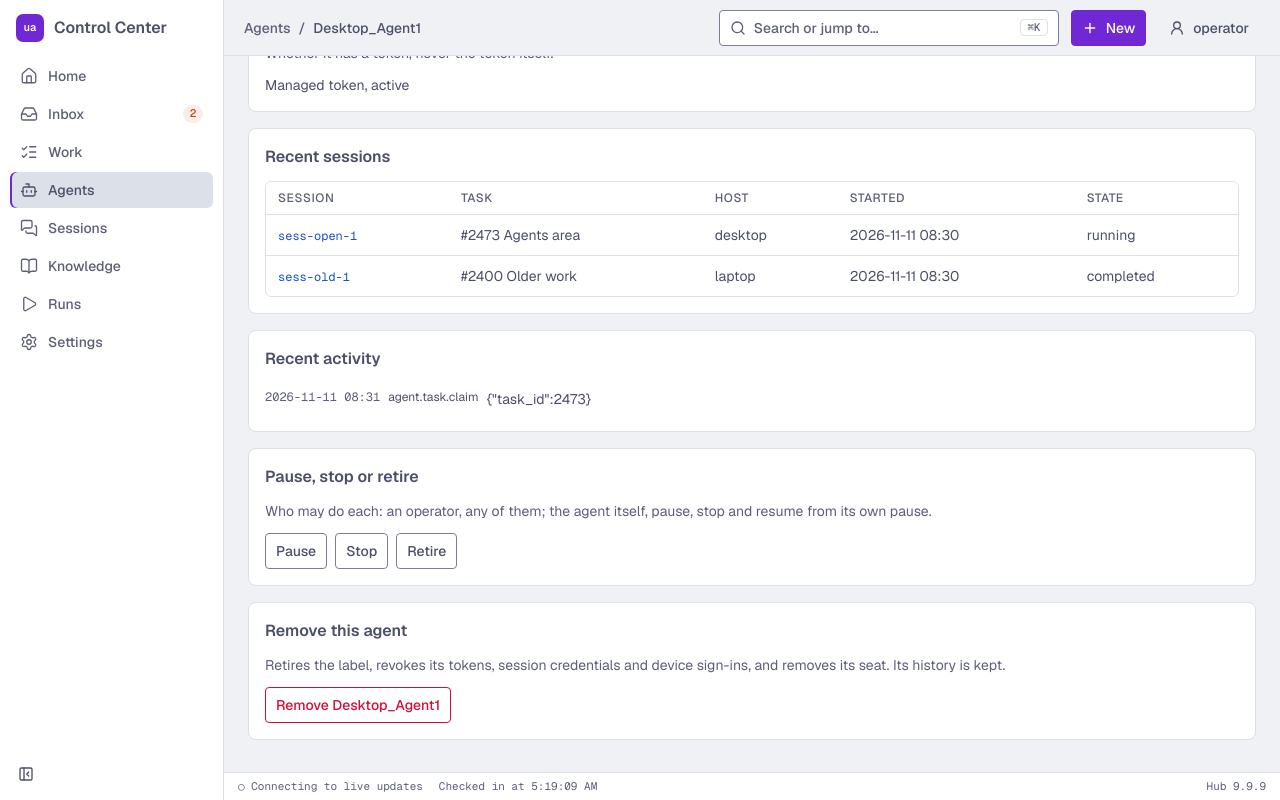
Test case: agents: the agent page › a 403 answer to the remove is explained
(page scrolled)
Click the button "Remove Desktop_Agent1". click: {"x": 358, "y": 705}
box: [265,687,451,723]
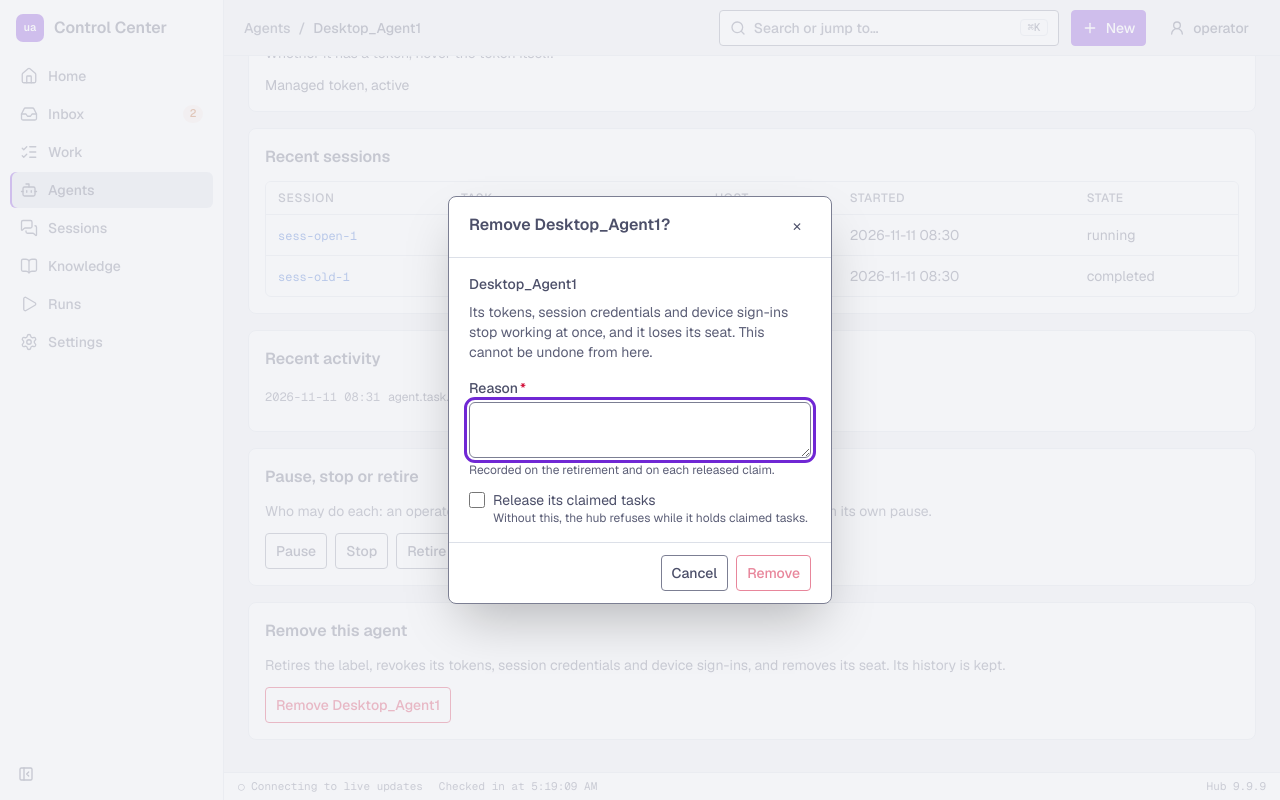
Type "x" into the text box labelled "Reason*". click: {"x": 640, "y": 430}
box: [469,402,811,458]
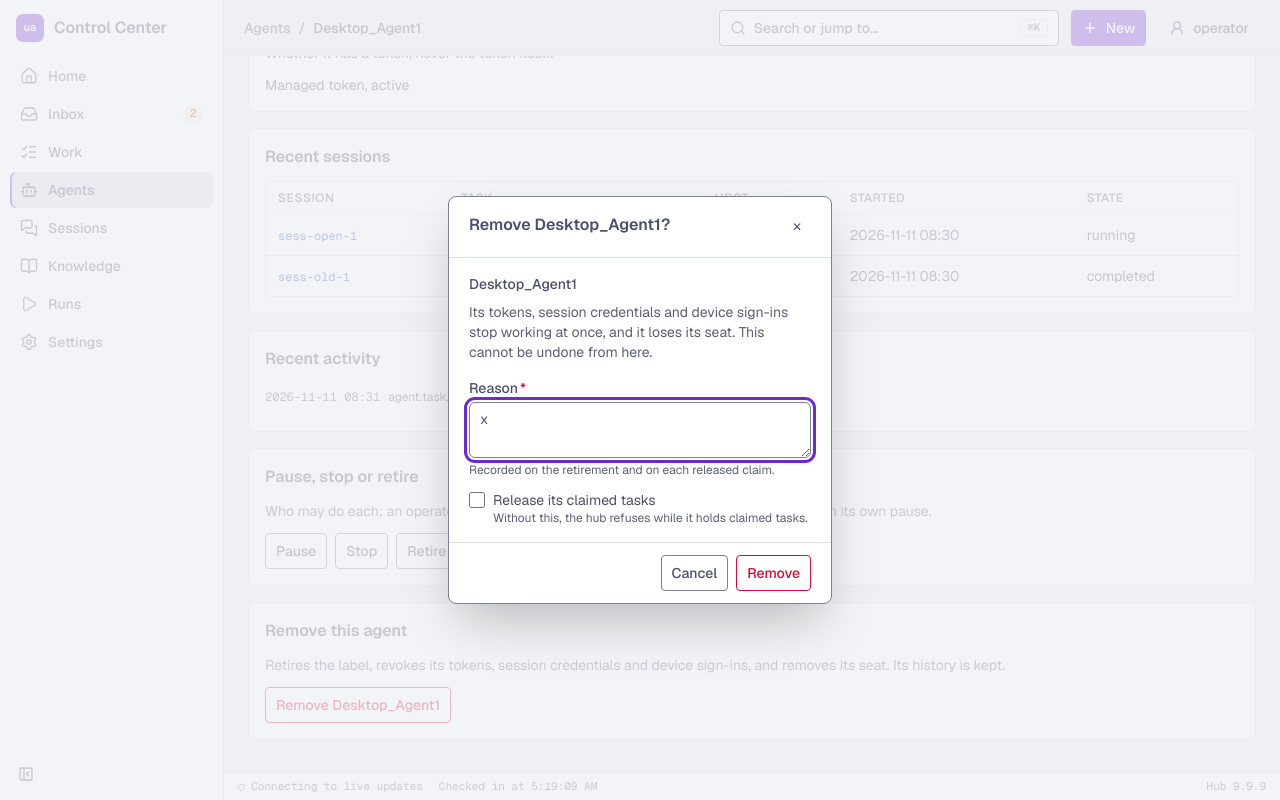
Click the button "Remove". click: {"x": 774, "y": 573}
box: [736,555,811,591]
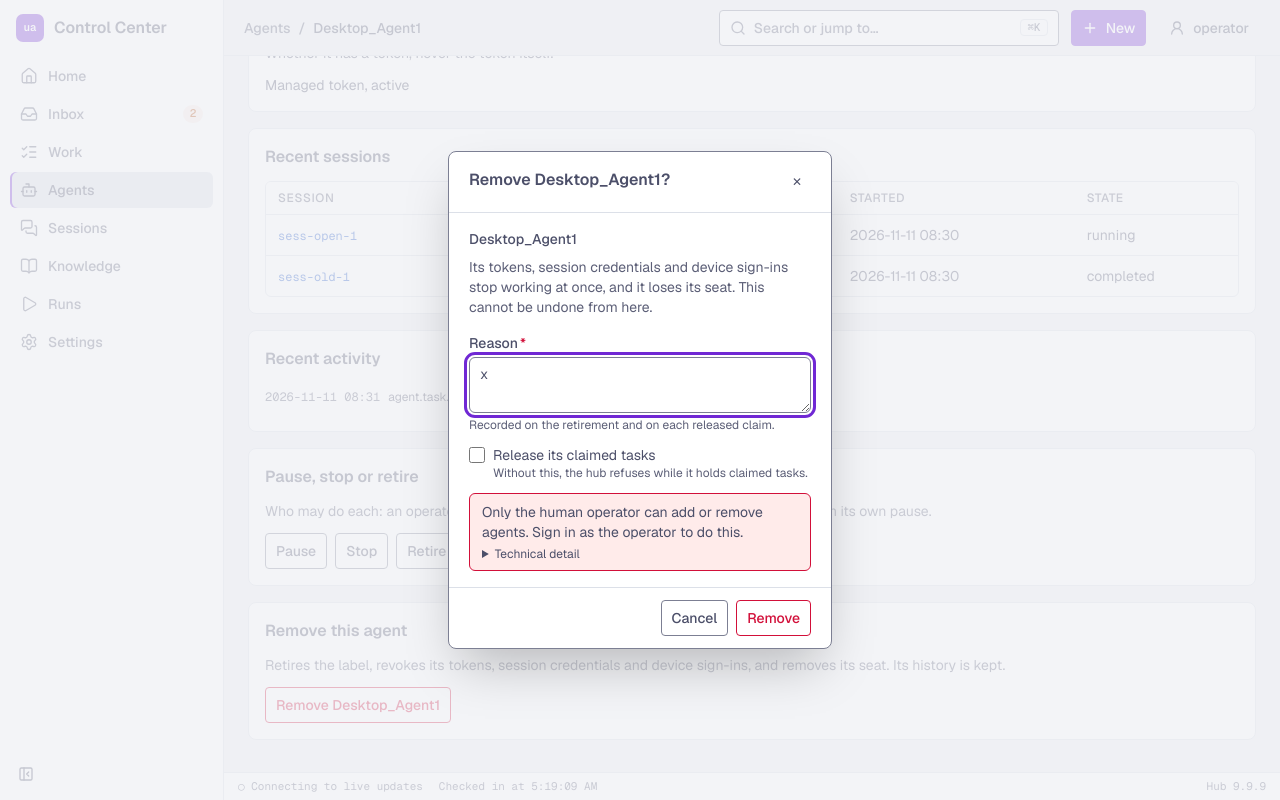
Expected: the text "Only the human operator can add or remove agents" is shown, [482,503,763,541]
